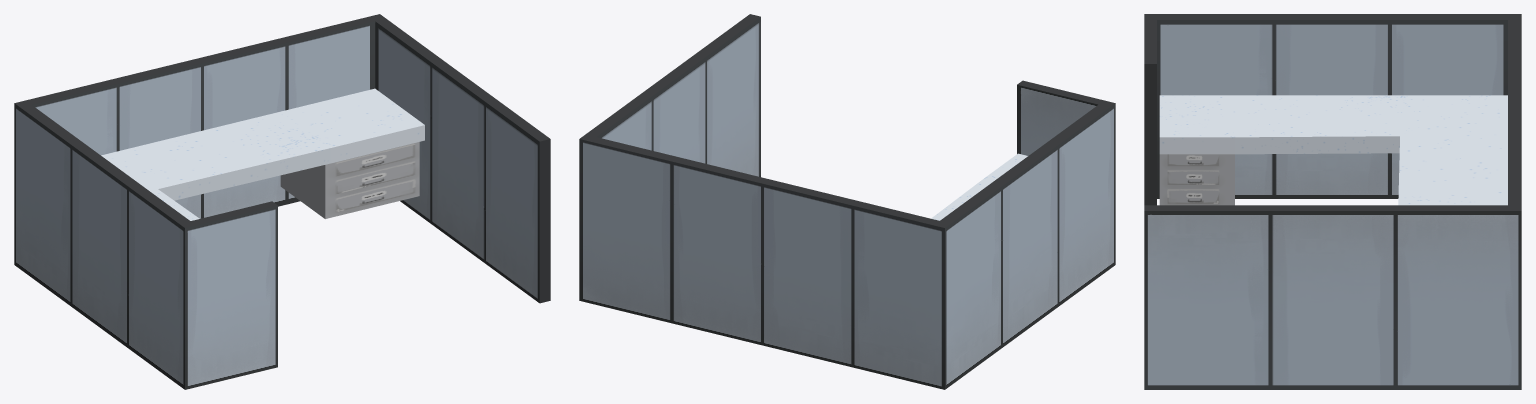
Rendered from cubicle.fbx.
3 renders of one model, left to right at view 1: azimuth 30°, elevation 25°; view 2: azimuth 150°, elevation 25°; view 3: azimuth 270°, elevation 25°, orthographic. The views are drawn at different scales.
Parts seen in each view (by area): view 1: cubicle, desk; view 2: cubicle, desk; view 3: cubicle, desk.
Part boxes in pixels (<box>): cubicle: <box>14,14,550,389</box>; desk: <box>101,88,424,220</box>; cubicle: <box>579,14,1115,389</box>; desk: <box>931,153,1027,220</box>; cubicle: <box>1144,14,1521,389</box>; desk: <box>1159,95,1507,205</box>.
Size of the model in its own units: 606 by 256 by 490.
